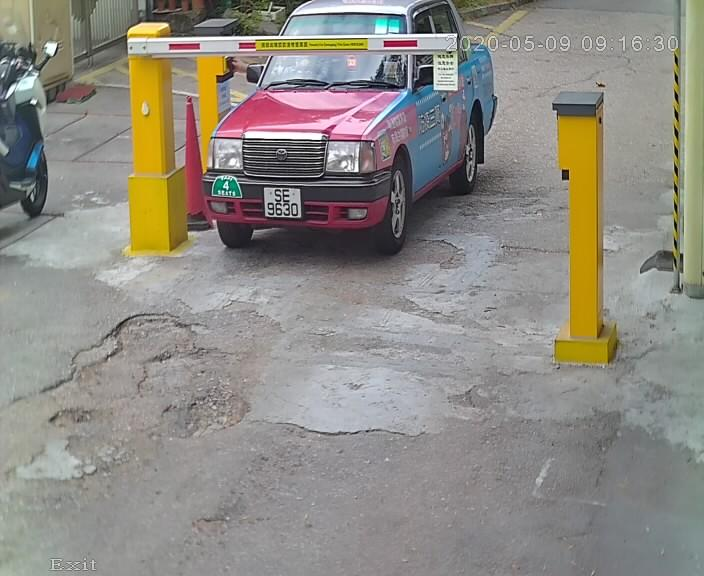Car: (191, 1, 506, 266)
License Plate: (258, 180, 308, 223)
